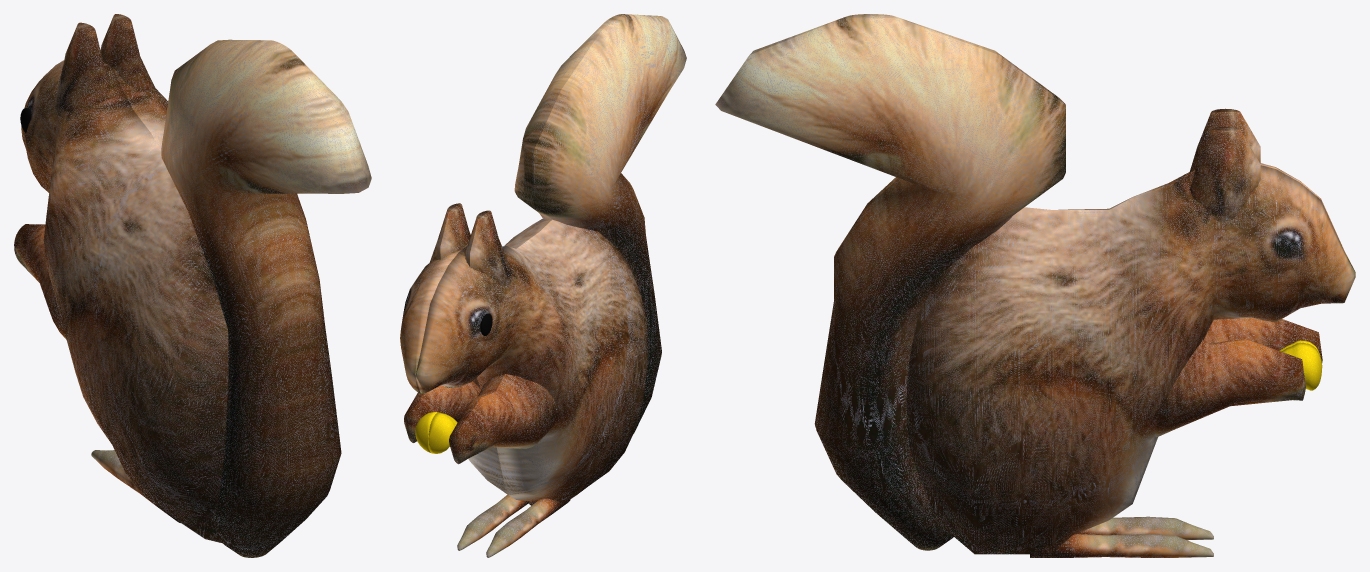
The model's file is squirrel.dae.
The picture shows the model from 3 angles, left to right: view 1: azimuth 30°, elevation 25°; view 2: azimuth 150°, elevation 25°; view 3: azimuth 270°, elevation 25°; orthographic projection. The views are drawn at different scales.
Visible parts, largest first — view 1: SketchUp (×6); view 2: SketchUp (×10); view 3: SketchUp (×9).
Boxes of the visible parts, left/top/right/bottom form: SketchUp (×6): left=14, top=14, right=371, bottom=557; SketchUp (×10): left=400, top=14, right=686, bottom=557; SketchUp (×9): left=715, top=14, right=1355, bottom=557.
Bounding box in the file's own units: 83.35 × 250 × 231.
